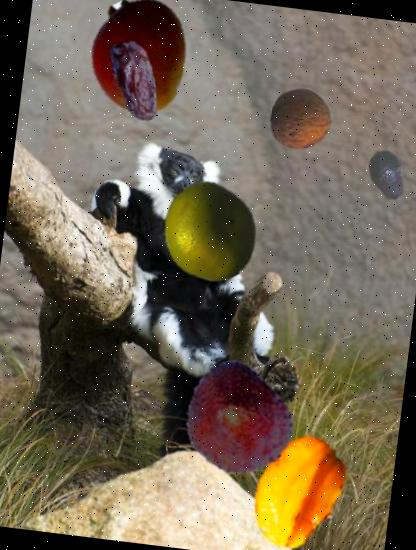Avocado: (357, 146, 416, 205)
Carambula: (233, 426, 365, 550)
Dates: (90, 35, 182, 127)
Mango: (75, 0, 205, 121)
Pomelo: (152, 175, 267, 290)
Salak: (174, 360, 298, 485)
Walnut: (267, 86, 335, 154)
